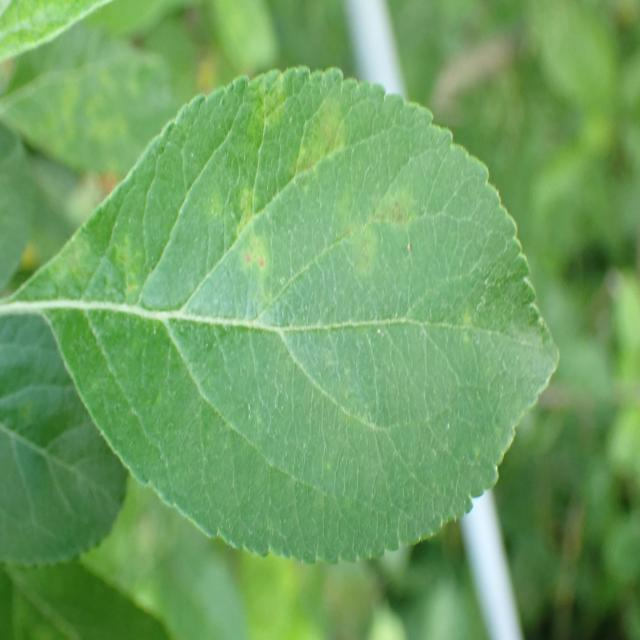scab: (83, 70, 524, 466)
